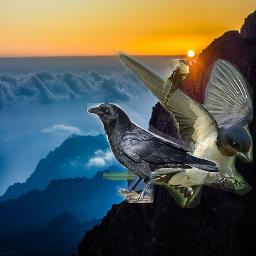Crow: (87, 103, 220, 203)
Cuckoo: (163, 59, 189, 106)
Swallow: (103, 49, 253, 208)
